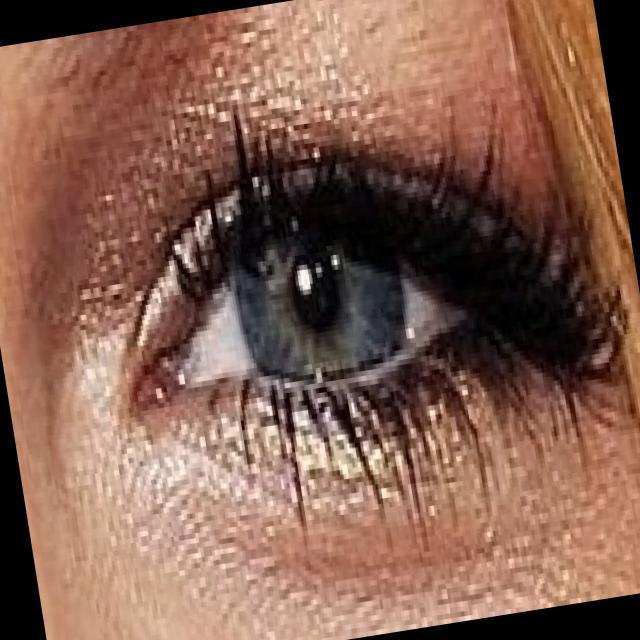Normal: (137, 107, 640, 481)
